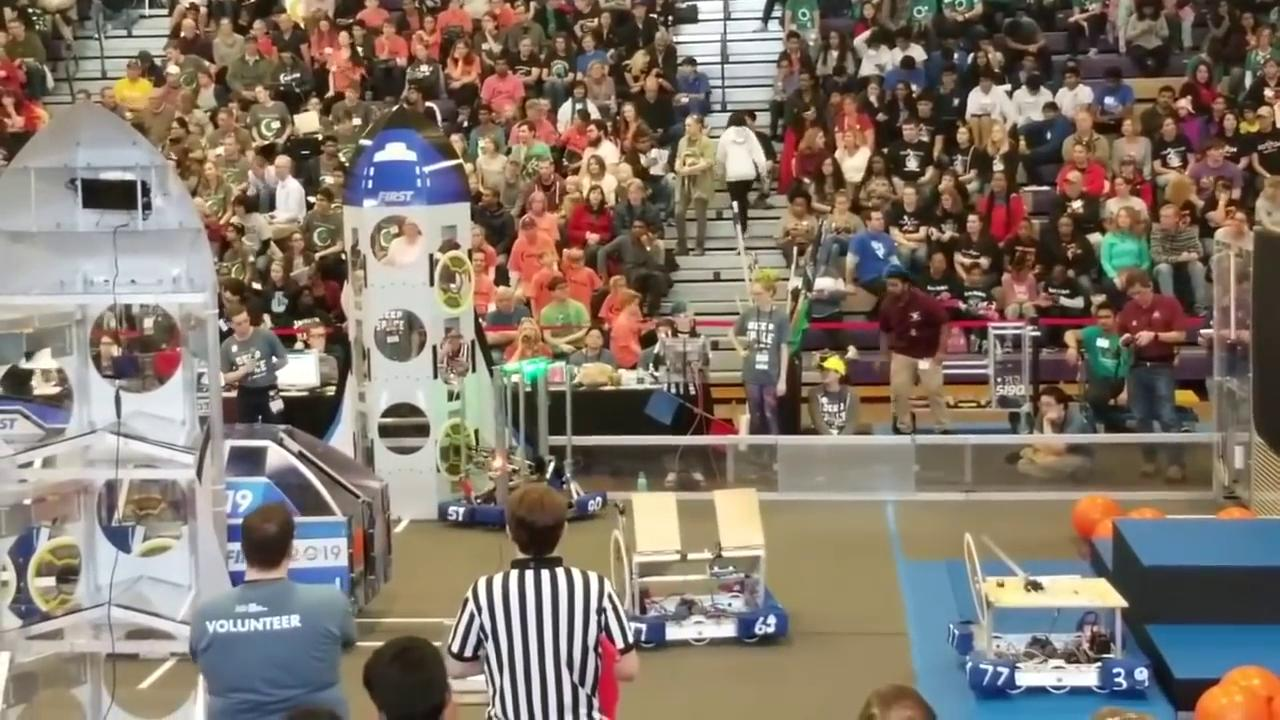robot: (613, 484, 790, 644), (943, 568, 1141, 695), (449, 360, 599, 521)
